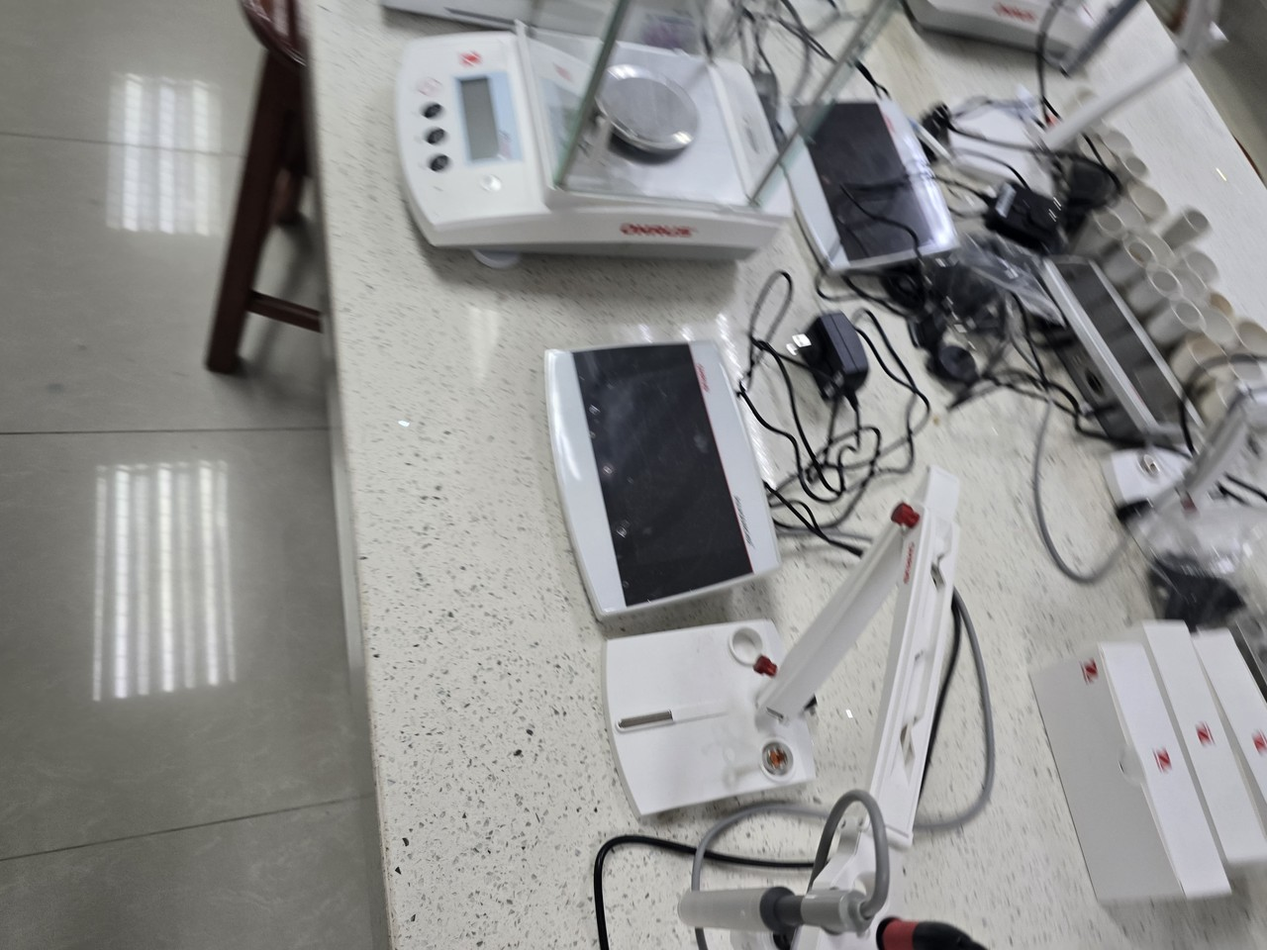aquasearcher_ab33m1: (511, 310, 1035, 950)
